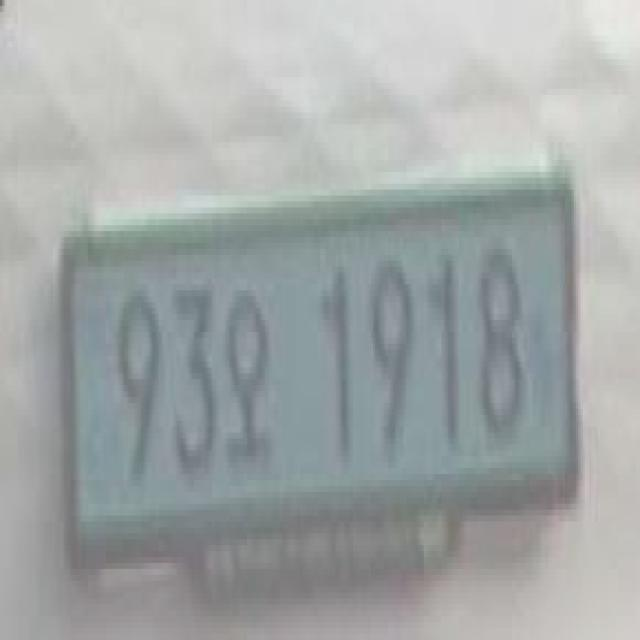EV_plate: (63, 170, 597, 604)
